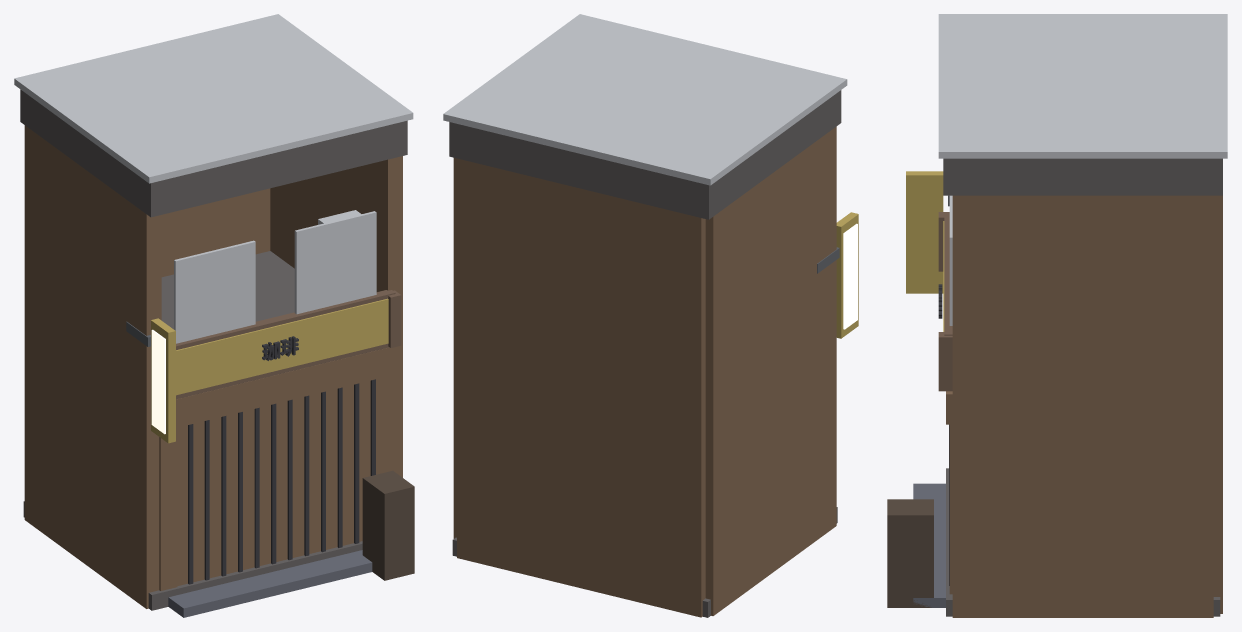
Rendered from prop_shop_kissa_closed.glb.
The picture shows the model from 3 angles, left to right: view 1: azimuth 30°, elevation 25°; view 2: azimuth 150°, elevation 25°; view 3: azimuth 270°, elevation 25°; orthographic projection. The views are drawn at different scales.
Visible parts, largest first — view 1: shop_kissa_closed; view 2: shop_kissa_closed; view 3: shop_kissa_closed.
Boxes of the visible parts, x1,y1,x2,y2 form: shop_kissa_closed: (14, 14, 414, 617); shop_kissa_closed: (443, 14, 858, 617); shop_kissa_closed: (887, 14, 1227, 617).
Size of the model in its own units: 3.5 by 5.54 by 3.65.
